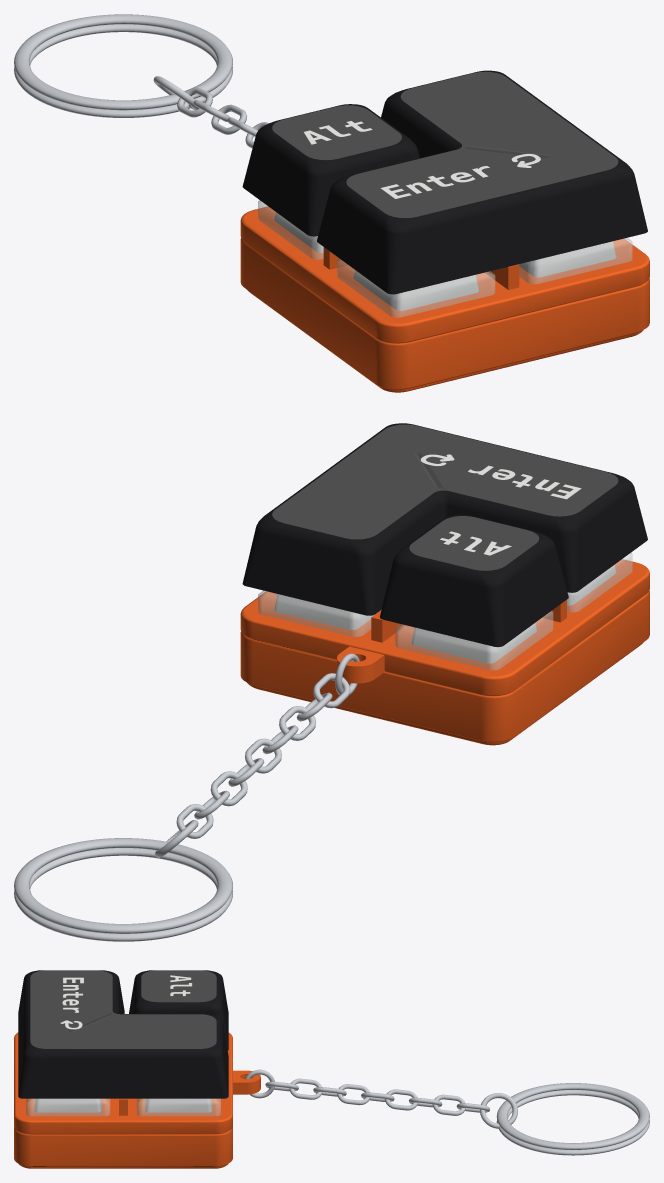
3 renders of one model, top to bottom at view 1: azimuth 30°, elevation 25°; view 2: azimuth 150°, elevation 25°; view 3: azimuth 270°, elevation 25°, orthographic. The views are drawn at different scales.
Visible parts, largest first — view 1: enter-key, base, alt-key, key-ring, switch (×3), chain, base-lid; view 2: enter-key, base, alt-key, key-ring, switch (×3), chain, lug, base-lid; view 3: enter-key, base, key-ring, alt-key, switch (×2), chain, lug, end-ring-tilt, base-lid, lug-ring.
Boxes of the visible parts, left/top/right/bottom form: enter-key: left=317, top=70, right=647, bottom=294; base: left=240, top=206, right=649, bottom=389; alt-key: left=242, top=104, right=419, bottom=236; key-ring: left=14, top=14, right=232, bottom=117; switch (×3): left=258, top=200, right=632, bottom=317; chain: left=177, top=87, right=268, bottom=148; base-lid: left=247, top=290, right=643, bottom=392; enter-key: left=242, top=423, right=647, bottom=615; base: left=240, top=559, right=649, bottom=742; alt-key: left=380, top=514, right=568, bottom=647; key-ring: left=14, top=838, right=232, bottom=941; switch (×3): left=258, top=553, right=632, bottom=670; chain: left=176, top=673, right=350, bottom=838; lug: left=337, top=646, right=385, bottom=683; base-lid: left=247, top=642, right=643, bottom=745; enter-key: left=18, top=970, right=228, bottom=1098; base: left=14, top=1032, right=232, bottom=1166; key-ring: left=496, top=1083, right=649, bottom=1155; alt-key: left=129, top=970, right=228, bottom=1050; switch (×2): left=26, top=1098, right=220, bottom=1116; chain: left=265, top=1078, right=489, bottom=1115; lug: left=233, top=1070, right=260, bottom=1094; end-ring-tilt: left=480, top=1093, right=517, bottom=1128; base-lid: left=18, top=1163, right=227, bottom=1168; lug-ring: left=245, top=1069, right=274, bottom=1098.
Bounding box in the file's own units: 0.04 × 0.0232 × 0.1162.
Materials: 8 (2 with a texture image).
